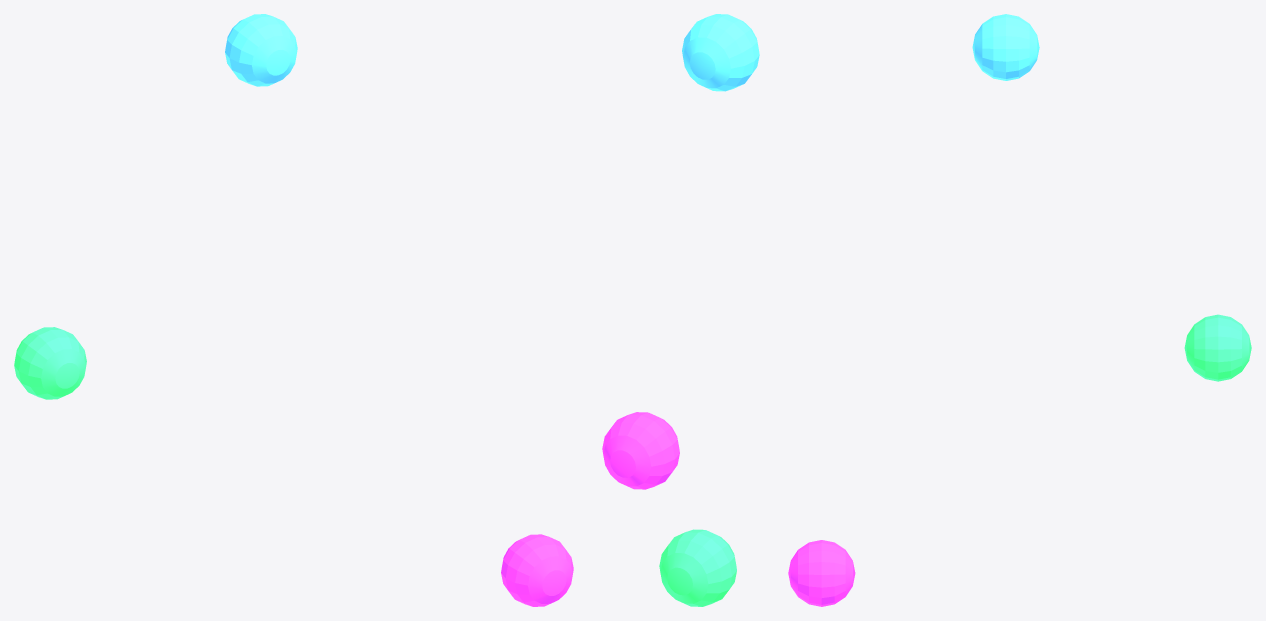
Rendered from boules1.fbx.
The picture shows the model from 3 angles, left to right: view 1: azimuth 30°, elevation 25°; view 2: azimuth 150°, elevation 25°; view 3: azimuth 270°, elevation 25°; orthographic projection. The views are drawn at different scales.
Parts seen in each view (by area): view 1: Sphere_2, Sphere, Sphere_3; view 2: Sphere_2, Sphere_3, Sphere; view 3: Sphere_3, Sphere_2, Sphere.
Boxes of the visible parts, x1,y1,x2,y2 form: Sphere_2: (501,534,573,606); Sphere: (14,327,86,399); Sphere_3: (225,14,297,86); Sphere_2: (602,412,679,489); Sphere_3: (682,14,759,91); Sphere: (659,529,736,606); Sphere_3: (972,14,1039,80); Sphere_2: (788,540,855,606); Sphere: (1184,314,1251,381).
Size of the model in its own units: 525 by 835 by 690.
